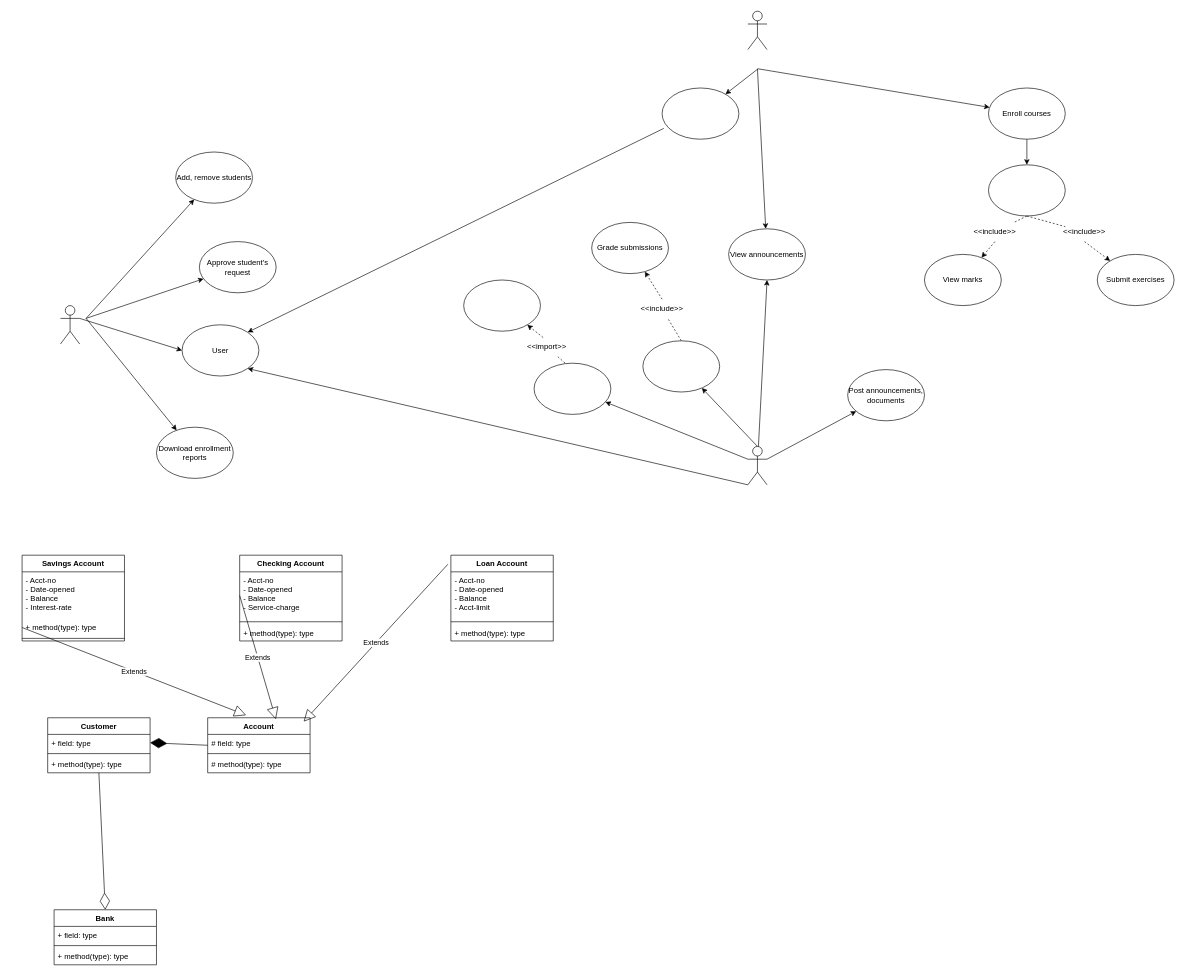
The diagram is 1185 pixels wide and 978 high, and some of its shapes have lost their labels. The shapes that lost their labels are listed below. From the top down, each one's centre as x and y in pixels, then its label:
At (x=757, y=30): "Student".
At (x=700, y=113): "Update profile".
At (x=1026, y=190): "View course info".
At (x=70, y=324): "Admin".
At (x=501, y=305): "Export student list of each course".
At (x=681, y=366): "View student submissions".
At (x=572, y=388): "View student list".
At (x=757, y=465): "Teacher".
